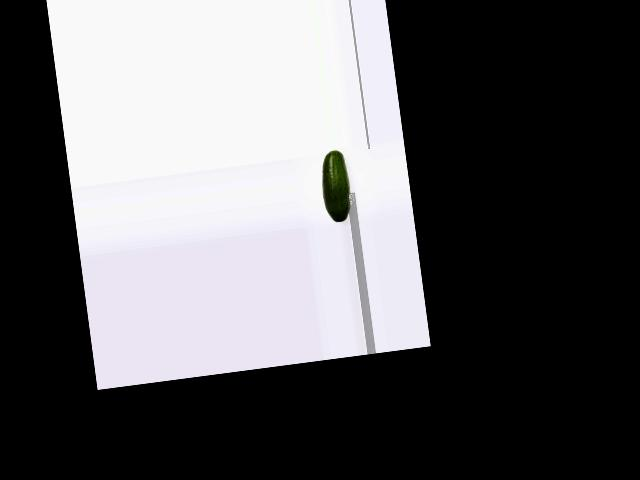cucumber: (317, 148, 354, 224)
